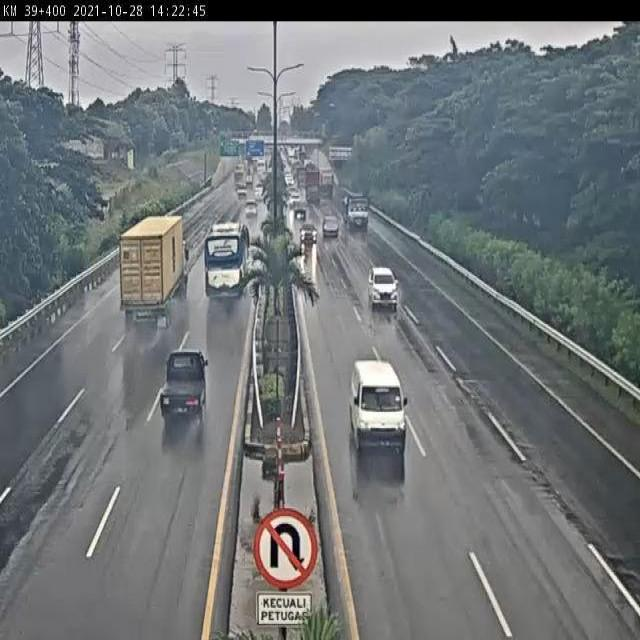big bus: (204, 222, 251, 302)
car: (349, 360, 410, 451), (154, 348, 212, 435), (367, 267, 403, 309), (321, 213, 341, 239), (297, 223, 318, 244)
truck-xl-: (121, 215, 190, 322), (344, 191, 371, 229)
